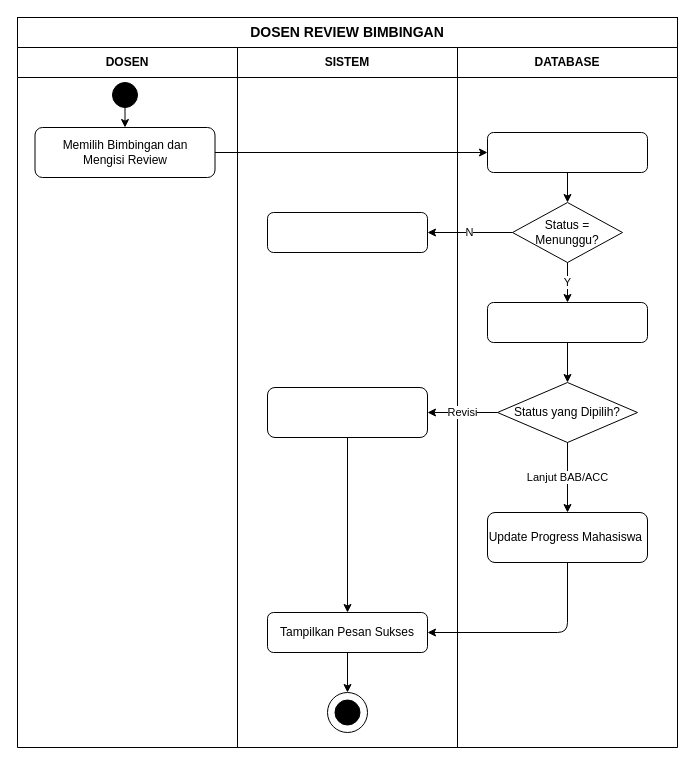
This 695x765 diagram has some shape labels left out. Here are the shapes that lost their labels. From the top down, the centre of each, then its label:
point (567, 152): Cari Data Bimbingan
point (347, 232): Tampilkan Pesan Error
point (567, 322): Update Status dan Feedback
point (347, 412): Notifikasi: Mahasiswa perlu upload ulang
